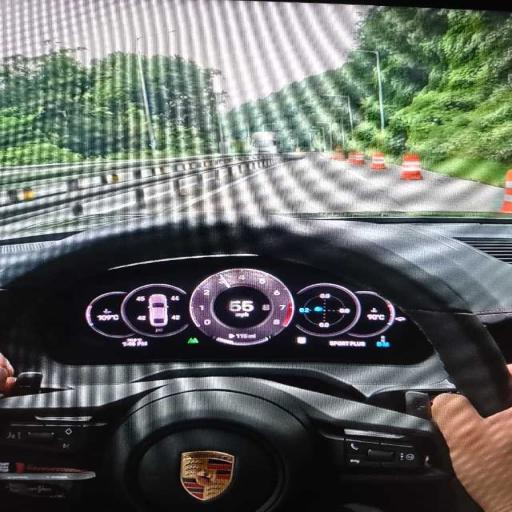car: (0, 0, 511, 511), (148, 294, 168, 327)
lane: (0, 154, 502, 238)
person: (432, 394, 511, 511), (0, 354, 15, 393)
